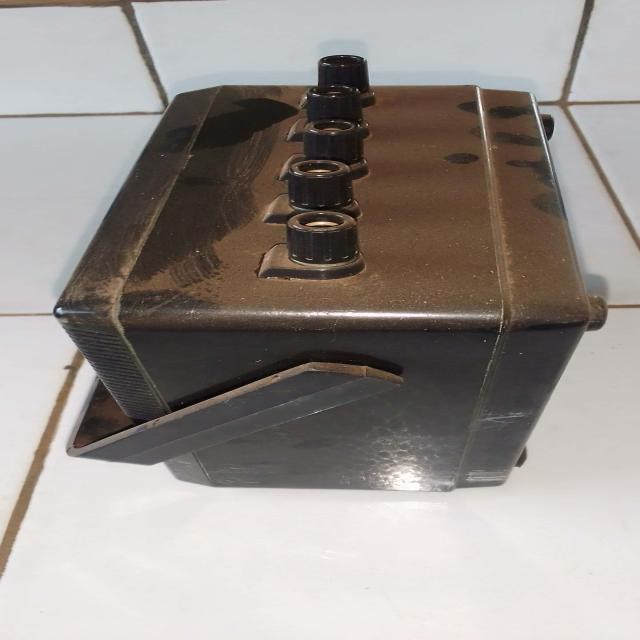Ammeter Analog: (81, 51, 617, 497)
